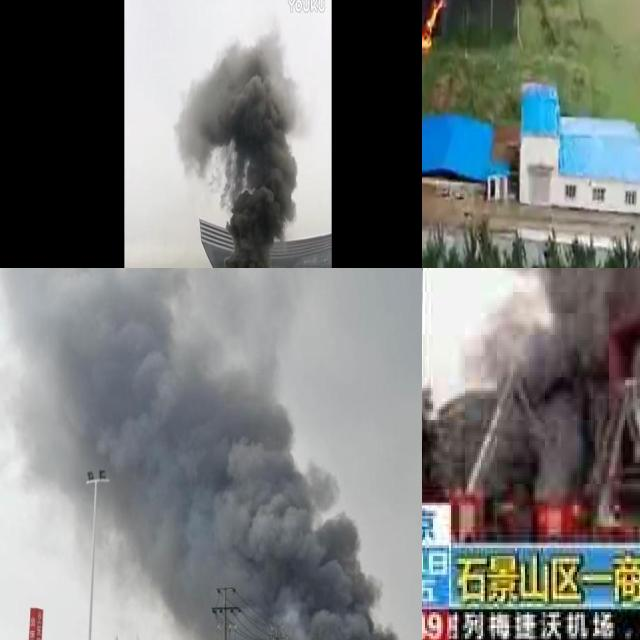fire: (422, 0, 441, 60)
smoke: (0, 268, 422, 640), (174, 29, 304, 268), (491, 377, 589, 495)
